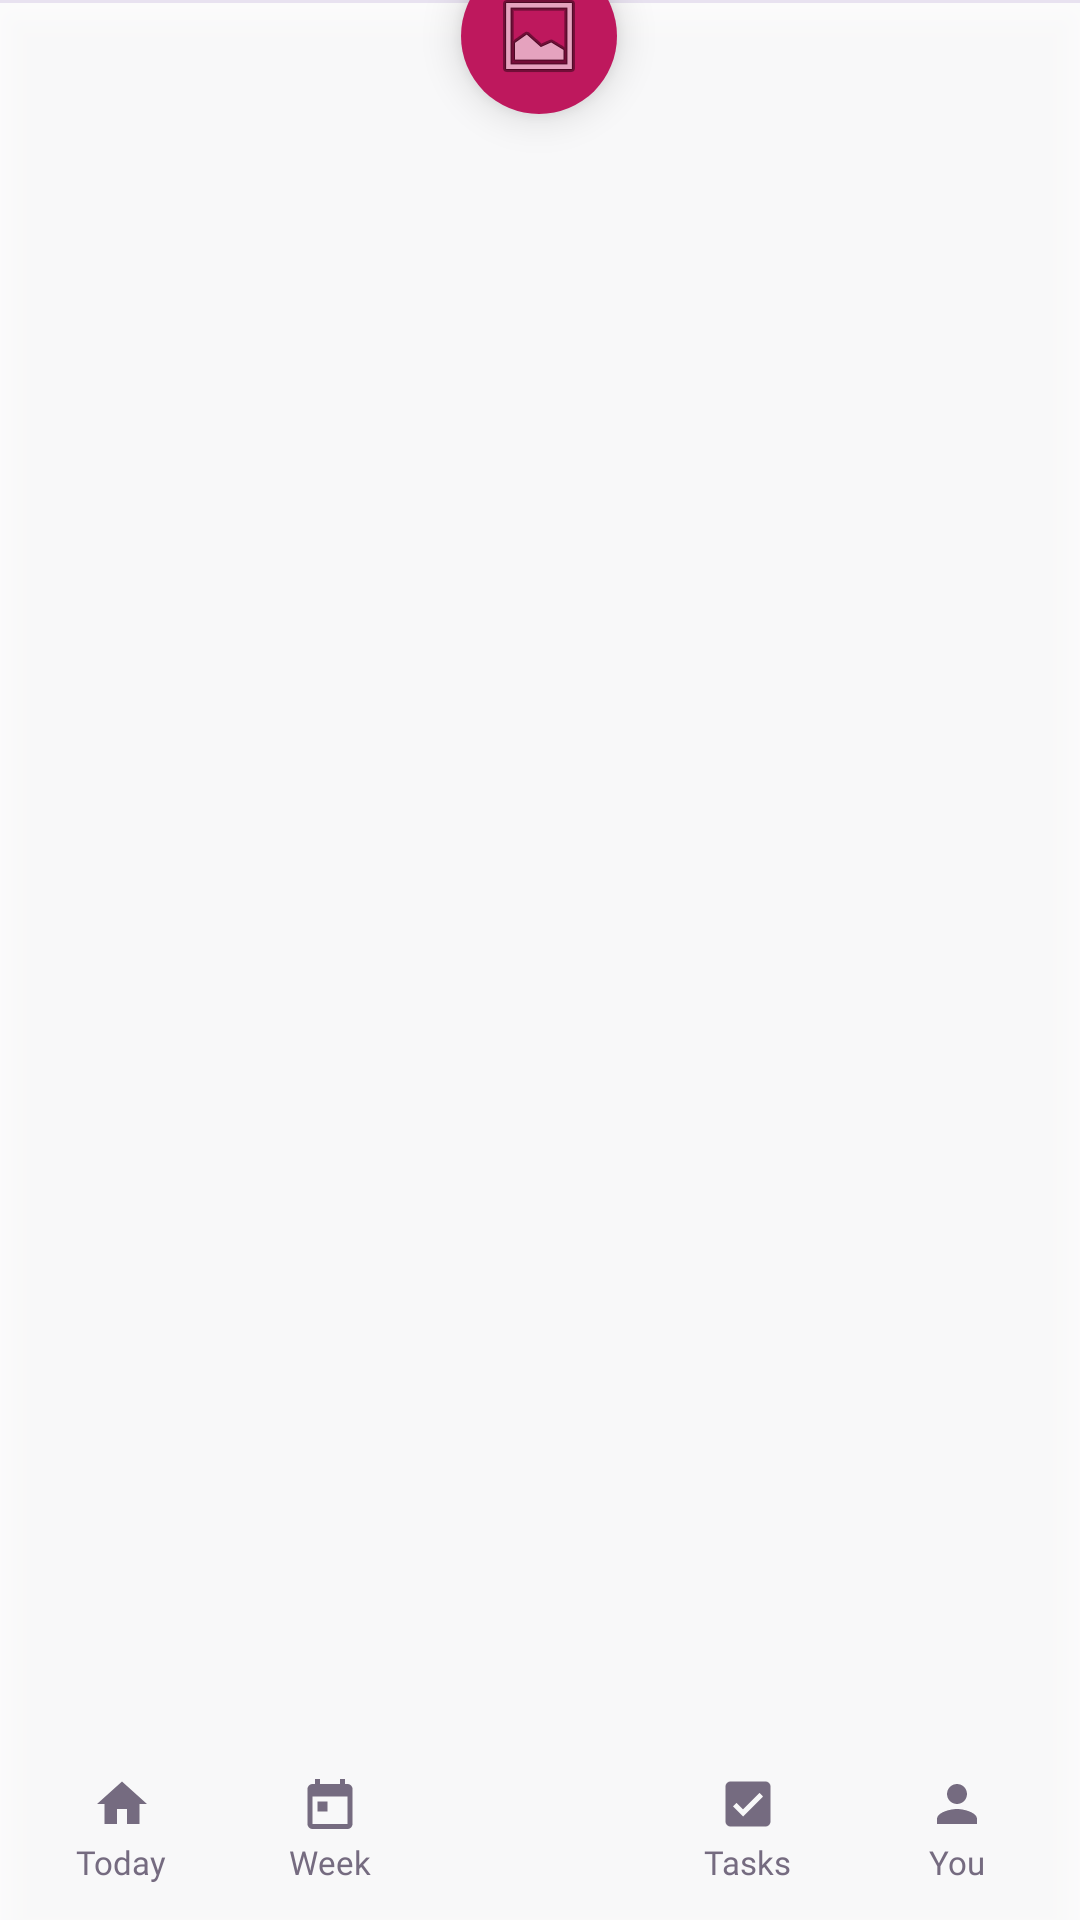

Named icons in this screenshot (1080*1920) and their bounding boxes, region(x1, y1, x2, y2):
today person: region(937, 1784, 977, 1824)
